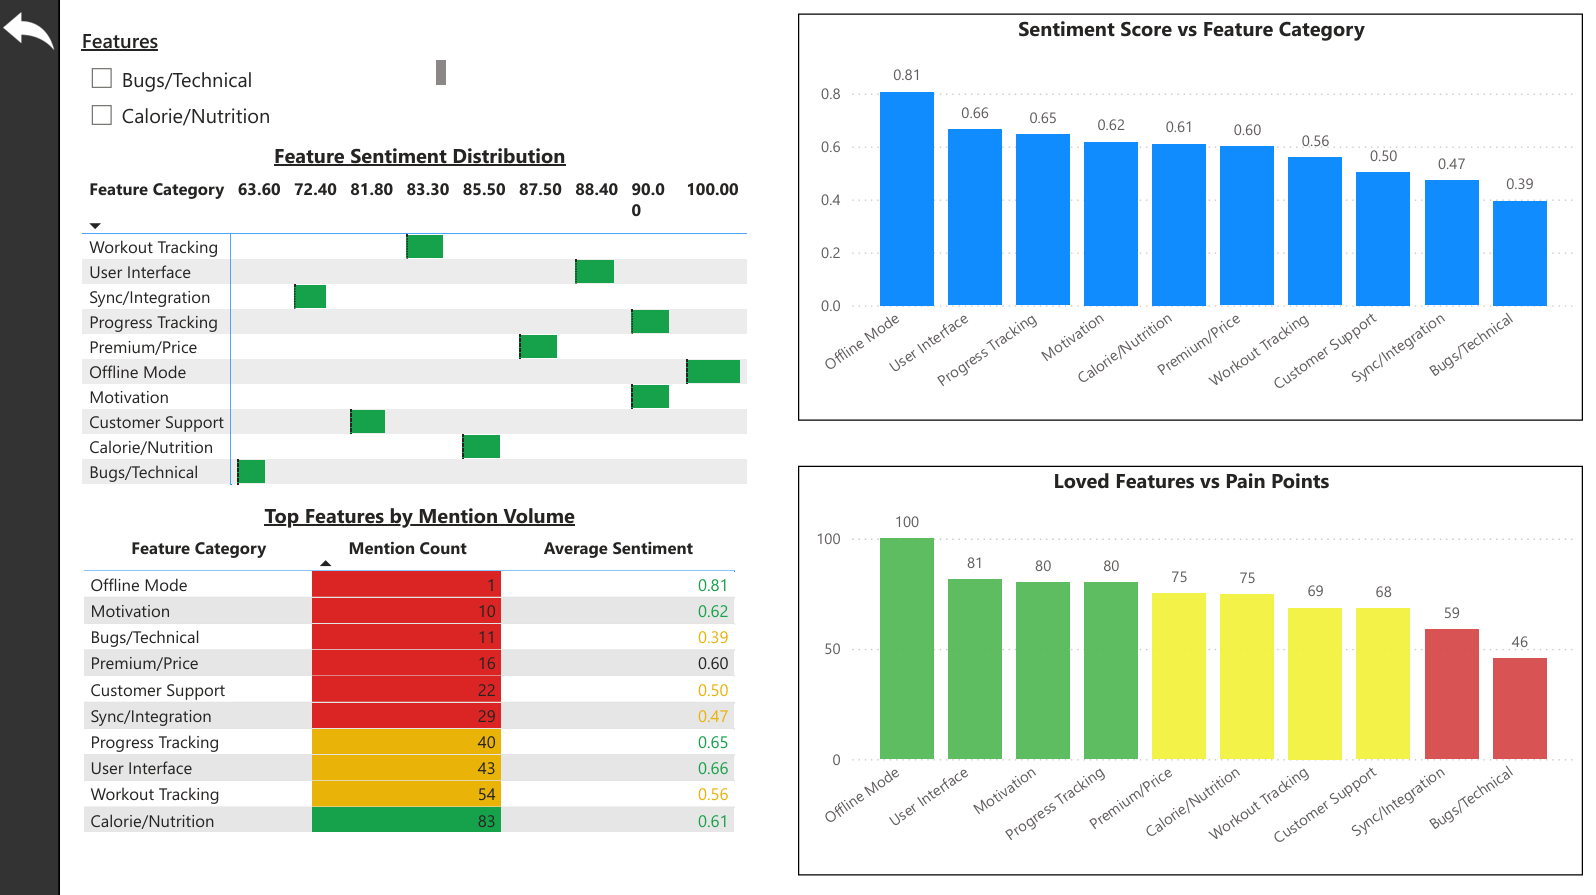

This screenshot's page, from the dashboard's own definition file:
{"tool":"powerbi","page":{"name":"Feature Sentiment Analysis","canvas":[1280,720],"ordinal":2},"visuals":[{"type":"clusteredColumnChart","title":"Sentiment Score vs Feature Category","fields":{"Category":["sentiment_by_feature.Feature Category"],"Y":["Avg(sentiment_by_feature.Avg Sentiment)"]},"box":[640,12.5,627.5,326.2],"z":0},{"type":"tableEx","title":"Top Features by Mention Volume","fields":{"Values":["sentiment_by_feature.Feature Category","sentiment_by_feature.Mention Count","sentiment_by_feature.Avg Sentiment"]},"box":[62.5,403.8,548.8,282.5],"z":1000},{"type":"pivotTable","title":"Feature Sentiment Distribution","fields":{"Rows":["sentiment_by_feature.Feature Category"],"Columns":["sentiment_by_feature.Positive %","sentiment_by_feature.Negative %","sentiment_by_feature.Neutral %"],"Values":["Sum(sentiment_by_feature.Positive %)"]},"box":[62.5,116.2,548.8,287.5],"z":2000},{"type":"clusteredColumnChart","title":"Loved Features vs Pain Points ","fields":{"Category":["sentiment_by_feature.Feature Category"],"Y":["Min(sentiment_by_feature.Net Sentiment)"]},"box":[640,375,627.5,327.5],"z":3000},{"type":"shape","box":[0,0,49.1,720.3],"z":4000},{"type":"slicer","title":"Features","fields":{"Values":["sentiment_by_feature.Feature Category"]},"box":[62.3,24,302,92.3],"z":5000},{"type":"image","box":[0,0,49.1,53.9],"z":6000}]}

Visuals, with their boxes on the page's 1280x720 design canvas (x1, y1, x2, y2). These are canvas units, not pixel positions in the 1596x895 screenshot, which may show the page scaled, cropped or inside an application window:
"Sentiment Score vs Feature Category" clusteredColumnChart: 640 12 1268 339
"Top Features by Mention Volume" tableEx: 62 404 611 686
"Feature Sentiment Distribution" pivotTable: 62 116 611 404
"Loved Features vs Pain Points " clusteredColumnChart: 640 375 1268 702
shape: 0 0 49 720
"Features" slicer: 62 24 364 116
image: 0 0 49 54
